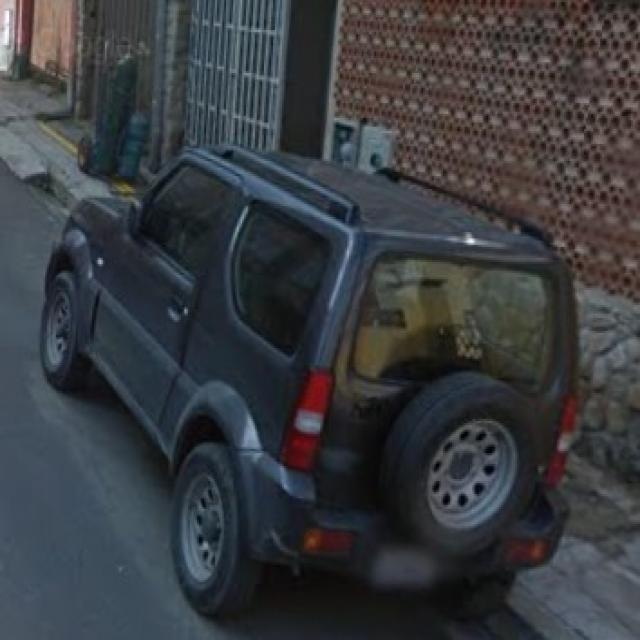cars: (44, 139, 568, 623)
